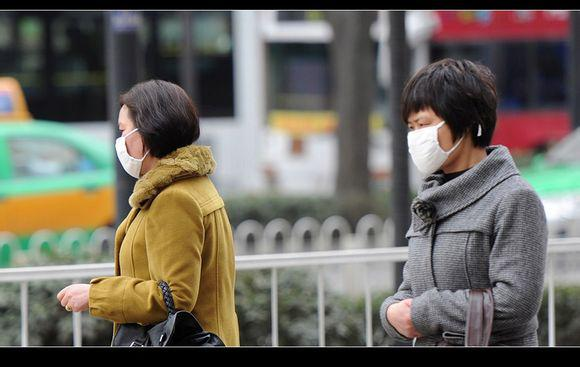OK: (408, 114, 479, 176), (116, 116, 162, 182)
